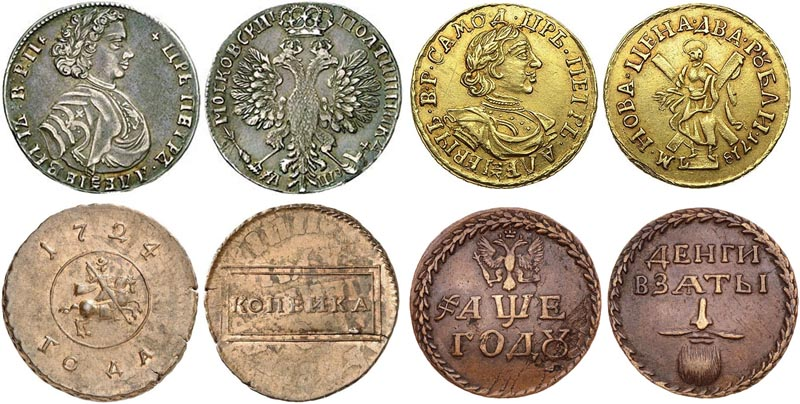coin: (203, 204, 399, 404), (1, 203, 198, 400), (3, 3, 203, 195), (410, 208, 603, 401), (207, 2, 403, 192), (608, 207, 800, 398), (410, 5, 597, 191), (606, 7, 792, 189)
